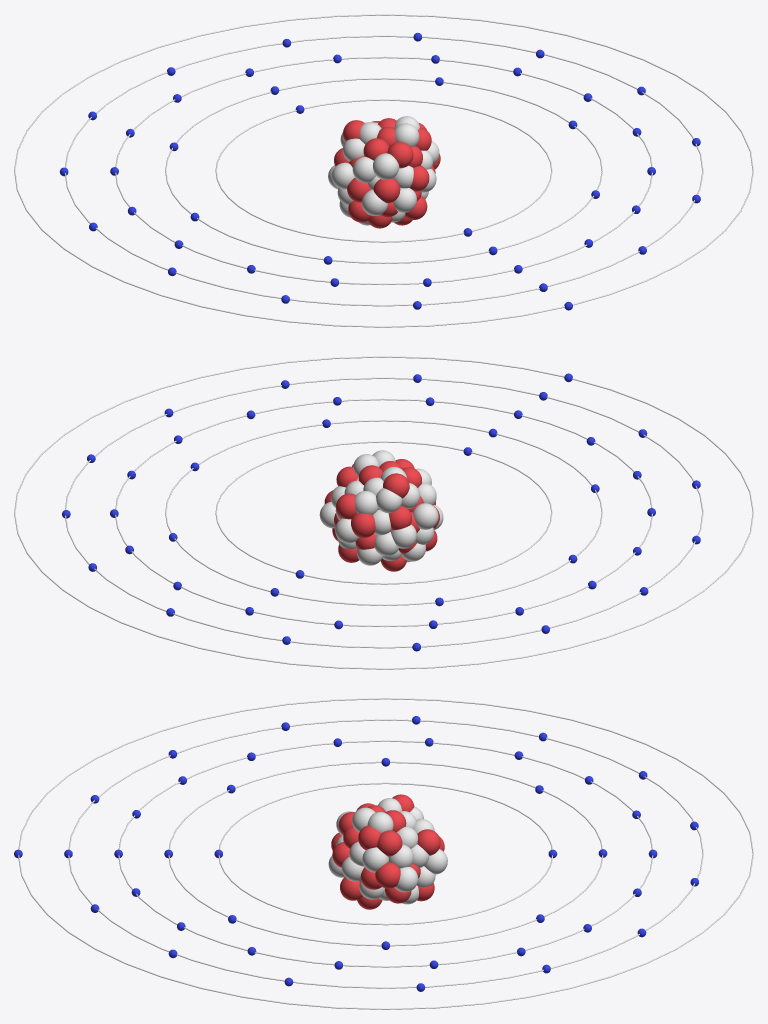
File: Ruthenium.glb
3 views of the same model, one above another, from view 1: azimuth 30°, elevation 25°; view 2: azimuth 150°, elevation 25°; view 3: azimuth 270°, elevation 25° (orthographic).
Parts seen in each view (by area): view 1: O-Schale, N-Schale, M-Schale, L-Schale, K-Schale, Neutron 45; view 2: O-Schale, N-Schale, M-Schale, L-Schale, K-Schale, Neutron 44, Proton 40; view 3: O-Schale, N-Schale, M-Schale, L-Schale, K-Schale, Proton 38.
Part boxes in pixels (x1=…): O-Schale: x1=14, y1=14, x2=753, y2=327; N-Schale: x1=65, y1=35, x2=703, y2=306; M-Schale: x1=115, y1=56, x2=652, y2=285; L-Schale: x1=165, y1=78, x2=602, y2=263; K-Schale: x1=215, y1=99, x2=552, y2=242; Neutron 45: x1=373, y1=153, x2=399, y2=179; O-Schale: x1=14, y1=356, x2=753, y2=669; N-Schale: x1=64, y1=377, x2=703, y2=648; M-Schale: x1=115, y1=398, x2=652, y2=627; L-Schale: x1=165, y1=420, x2=602, y2=605; K-Schale: x1=215, y1=441, x2=552, y2=584; Neutron 44: x1=413, y1=503, x2=438, y2=529; Proton 40: x1=351, y1=513, x2=375, y2=537; O-Schale: x1=18, y1=698, x2=753, y2=1009; N-Schale: x1=68, y1=719, x2=703, y2=988; M-Schale: x1=118, y1=740, x2=653, y2=967; L-Schale: x1=168, y1=761, x2=603, y2=946; K-Schale: x1=218, y1=782, x2=552, y2=925; Proton 38: x1=375, y1=862, x2=400, y2=888.
Bounding box in the file's own units: 22.04 × 3.35 × 22.15.
